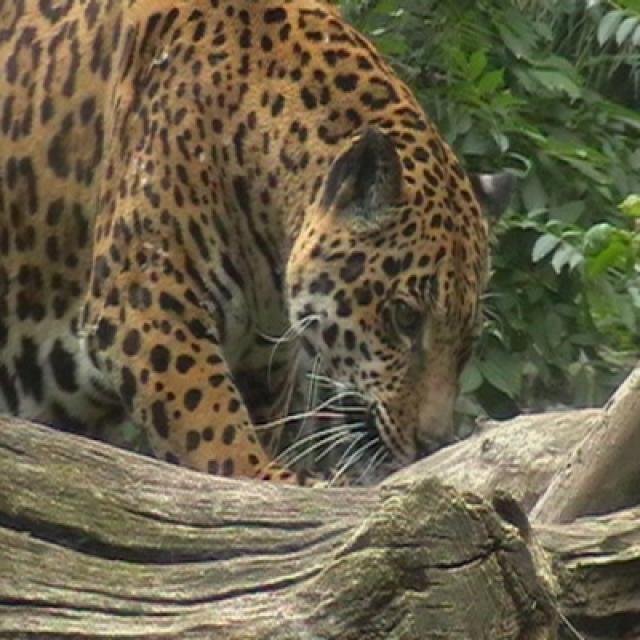Jaguar: (0, 0, 491, 484)
